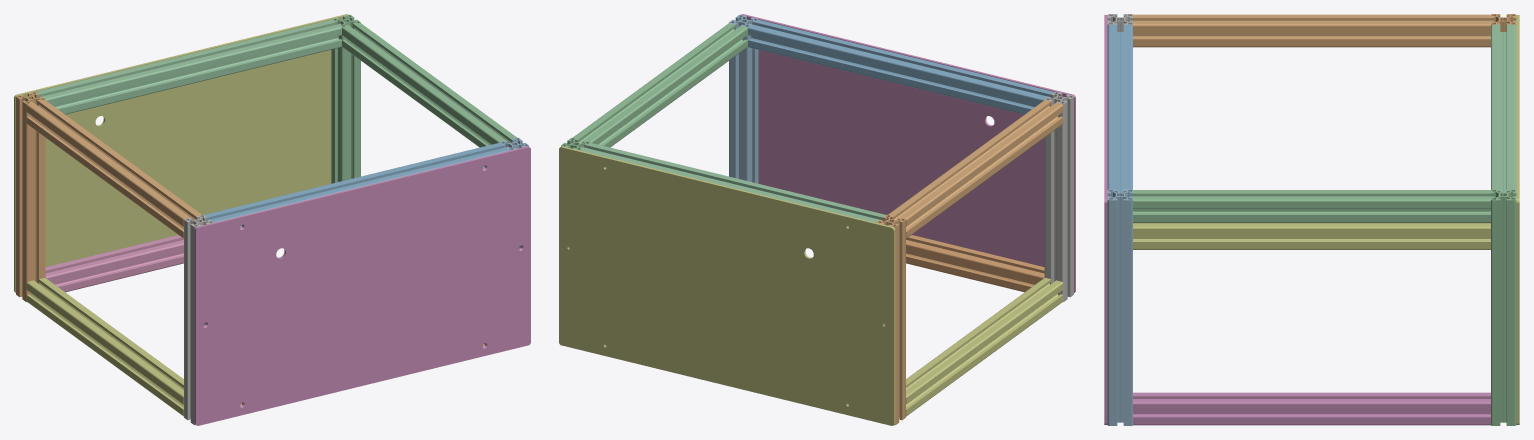
Rendered from case-06_fable52.glb.
The picture shows the model from 3 angles, left to right: view 1: azimuth 30°, elevation 25°; view 2: azimuth 150°, elevation 25°; view 3: azimuth 270°, elevation 25°; orthographic projection. The views are drawn at different scales.
Parts seen in each view (by area): view 1: c00002, c00001, c00008, c00013, c00011, c00014, c00003, c00004, c00007, c00010, c00005; view 2: c00001, c00002, c00010, c00013, c00011, c00014, c00005, c00006, c00009, c00008, c00003; view 3: c00012, c00013, c00014, c00011, c00004, c00006, c00008, c00010, c00001, c00002.
Boxes of the visible parts, x1,y1,x2,y2 form: c00002: (194, 146, 530, 425); c00001: (14, 14, 348, 292); c00008: (36, 19, 341, 114); c00013: (26, 100, 201, 238); c00011: (26, 277, 183, 416); c00014: (342, 23, 516, 147); c00003: (16, 91, 45, 301); c00004: (331, 14, 360, 183); c00007: (45, 235, 183, 292); c00010: (204, 143, 509, 227); c00005: (184, 214, 213, 425); c00001: (559, 146, 895, 425); c00002: (741, 14, 1075, 292); c00010: (748, 19, 1053, 114); c00013: (888, 100, 1063, 238); c00011: (906, 277, 1063, 416); c00014: (573, 23, 747, 147); c00005: (1044, 91, 1073, 301); c00006: (729, 14, 758, 183); c00009: (906, 235, 1044, 292); c00008: (580, 143, 885, 228); c00003: (876, 214, 905, 425); c00012: (1133, 392, 1490, 425); c00013: (1133, 14, 1490, 47); c00014: (1133, 190, 1490, 222); c00011: (1133, 222, 1490, 249); c00004: (1491, 189, 1516, 425); c00006: (1107, 189, 1132, 425); c00008: (1491, 24, 1516, 192); c00010: (1107, 24, 1132, 192); c00001: (1516, 15, 1519, 424); c00002: (1104, 15, 1107, 424).
Size of the model in its own units: 690 by 390 by 650.
